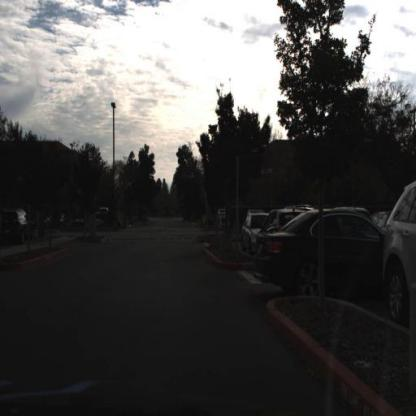car: (255, 206, 384, 300), (378, 180, 416, 328), (1, 205, 33, 248), (239, 206, 264, 258), (215, 207, 231, 225)
